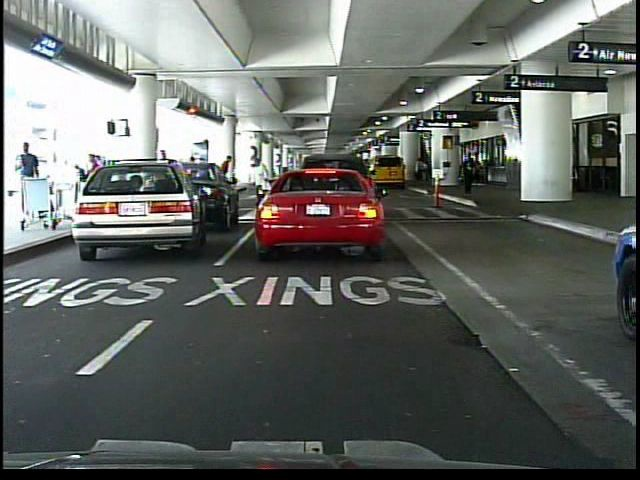person: (16, 138, 44, 225), (157, 144, 175, 223), (218, 154, 235, 206), (255, 154, 273, 195), (462, 155, 479, 197), (415, 155, 427, 189)
